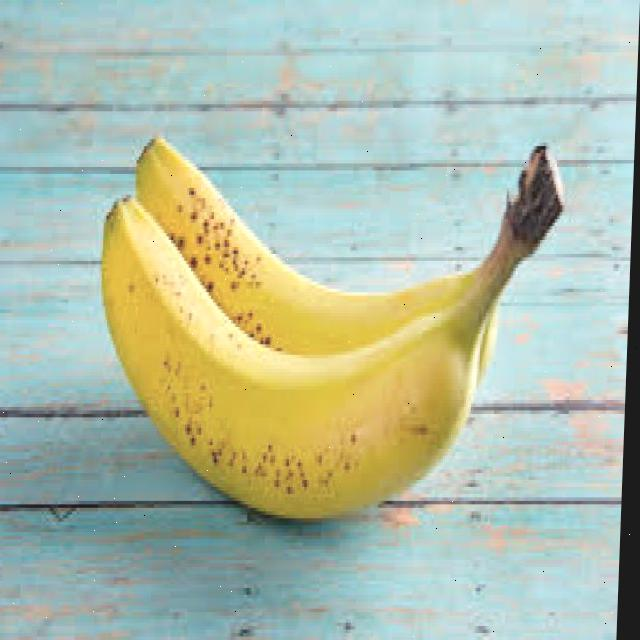banana: (83, 105, 573, 535)
